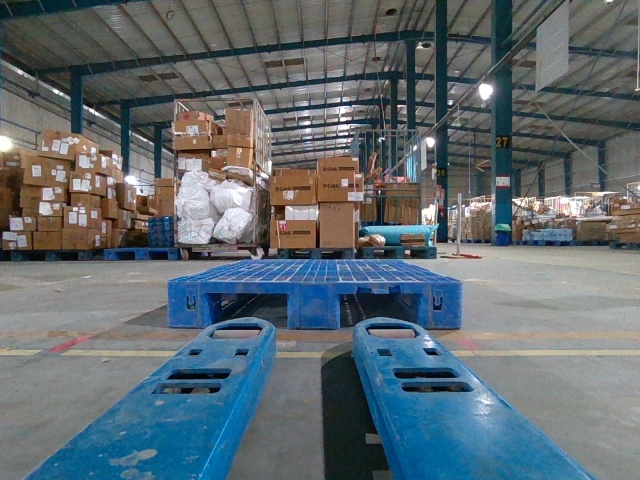block: (284, 281, 340, 331), (415, 282, 460, 334), (169, 281, 209, 327)
front: (167, 280, 460, 331)
hole pallet: (203, 293, 288, 329), (337, 294, 419, 326)
